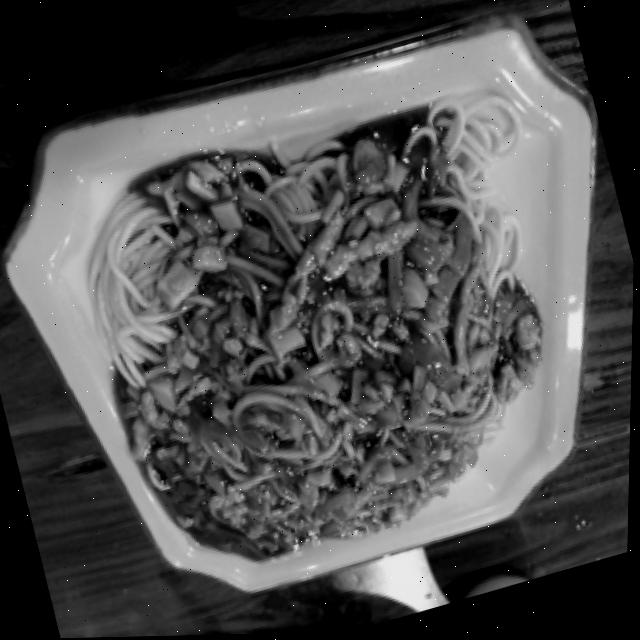面条主食: (47, 45, 627, 638)
